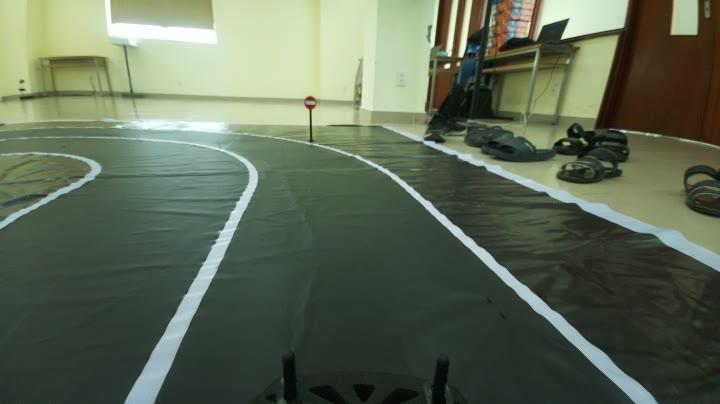no_entry: (298, 94, 320, 117)
